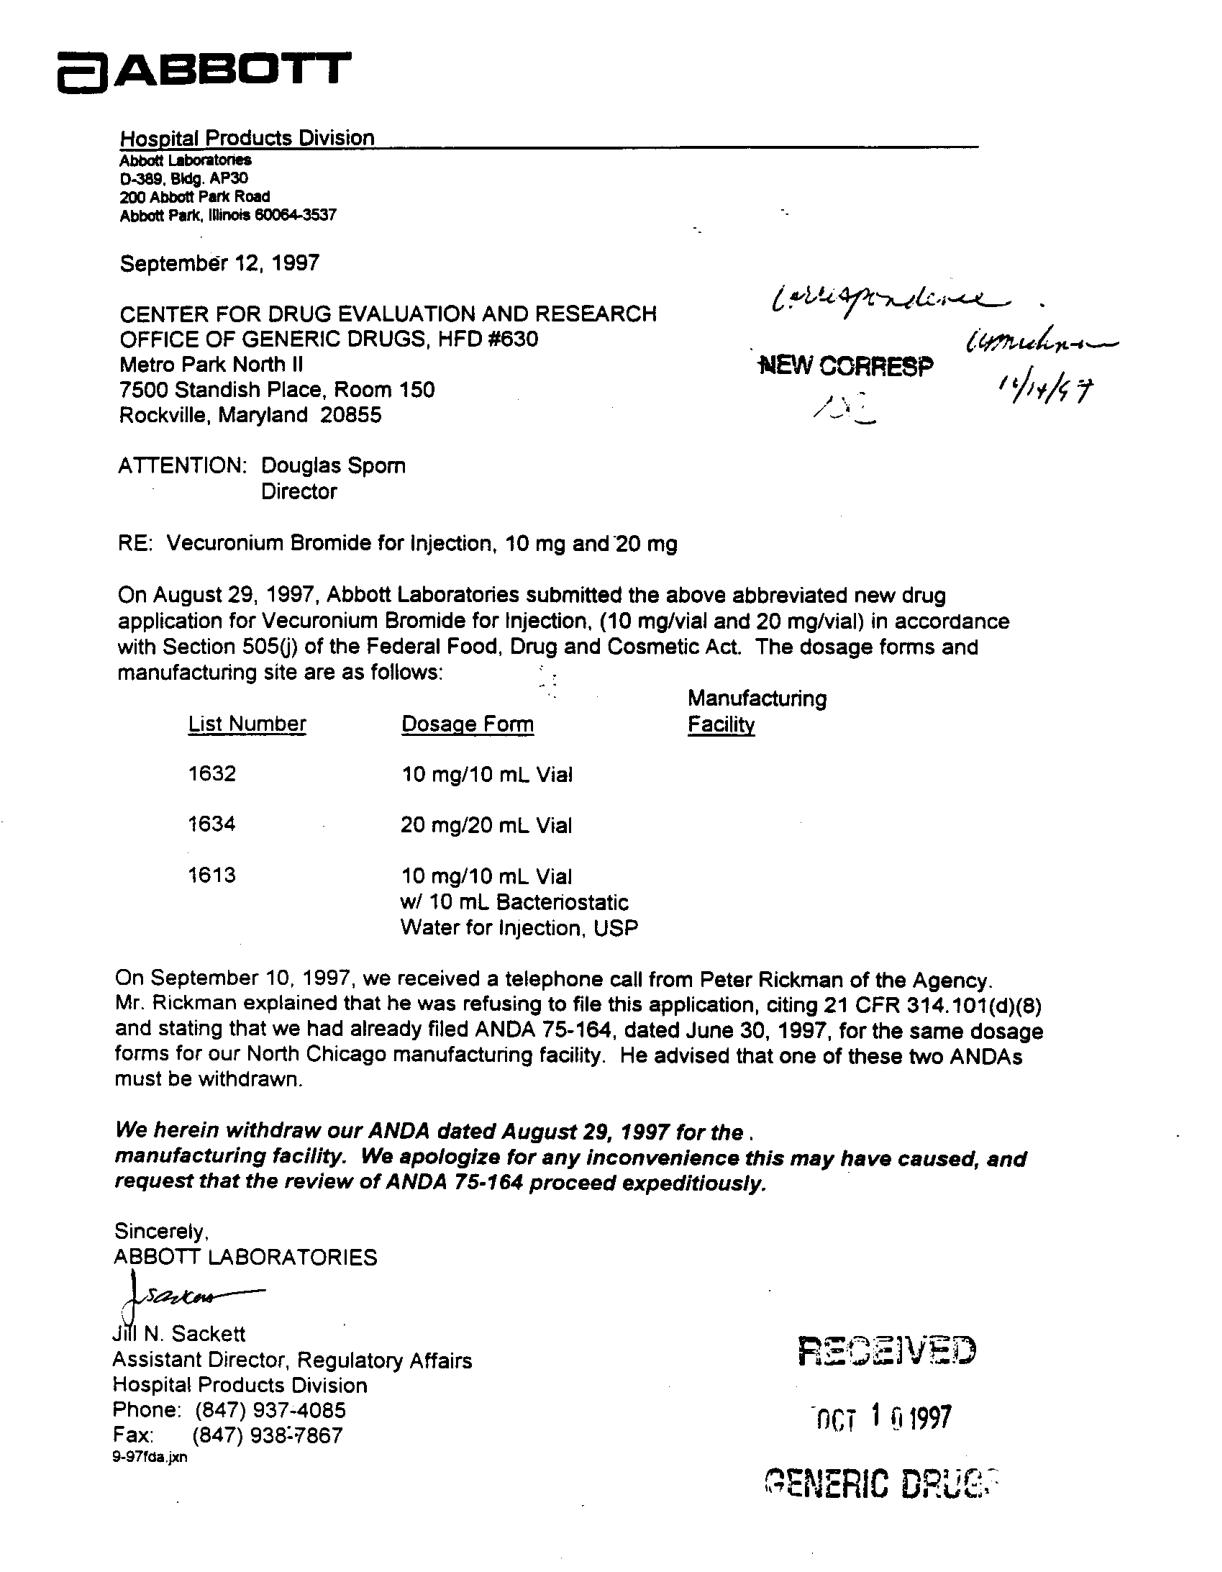nolines: (186, 685, 830, 938)
